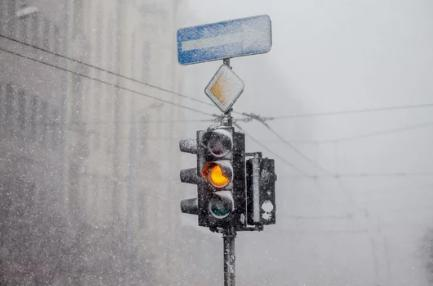yellow_light: (201, 129, 236, 228)
